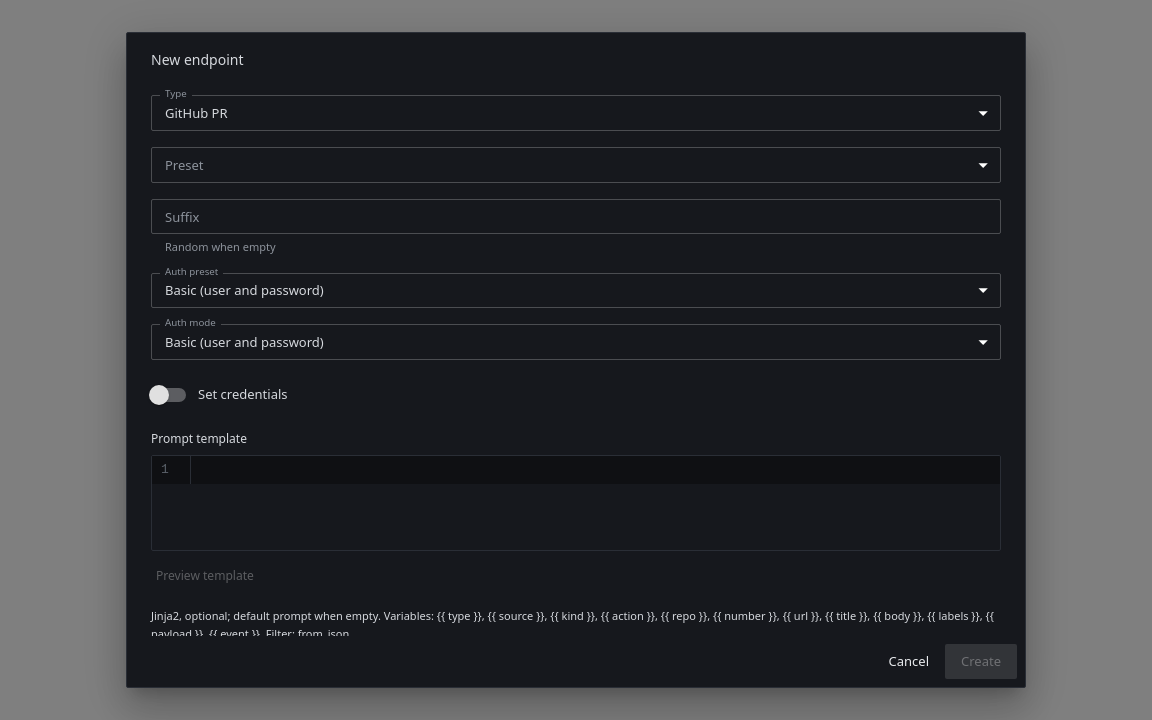
error › error 409 suffix_taken is shown in the dialog
The width and height of the screenshot is (1152, 720).
Click the dropdown named "Preset" at x=576, y=165, box [151,147,1001,183]
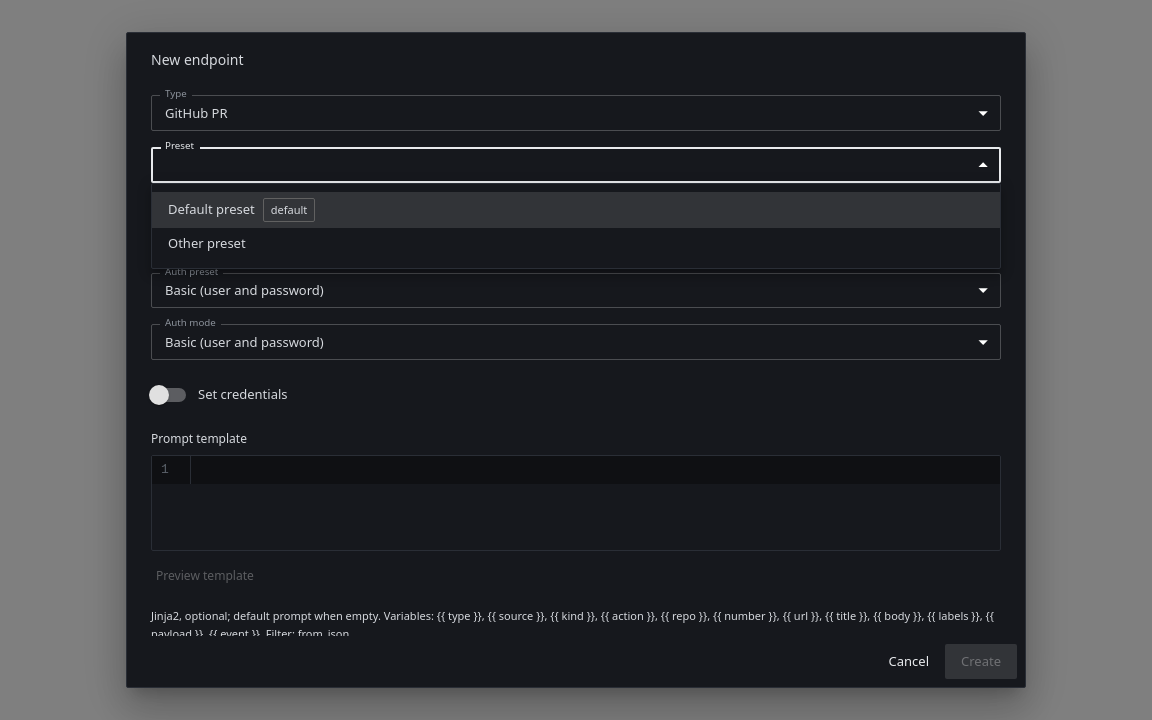
Click the option "Default preset default" at x=211, y=209, box [152,192,1000,228]
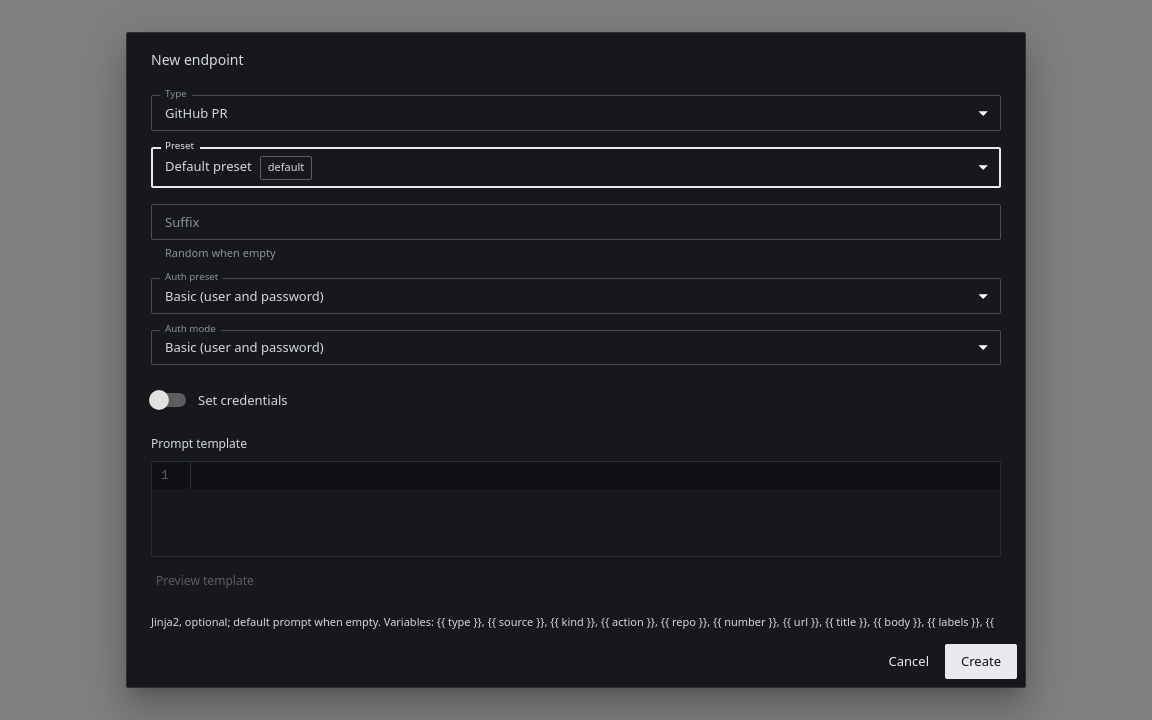
Type "dup" into the field labelled "Suffix" at x=576, y=222, box [151,204,1001,240]
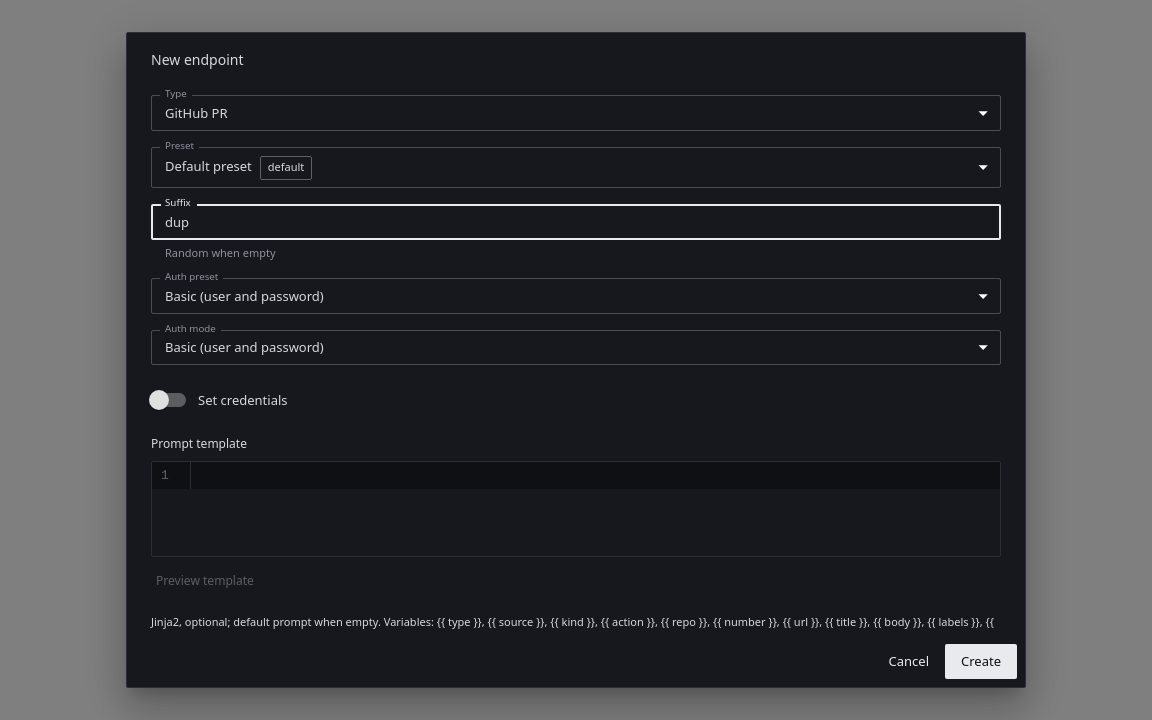
Click the button "Create" at x=981, y=662, box [945,644,1017,679]
(page scrolled)
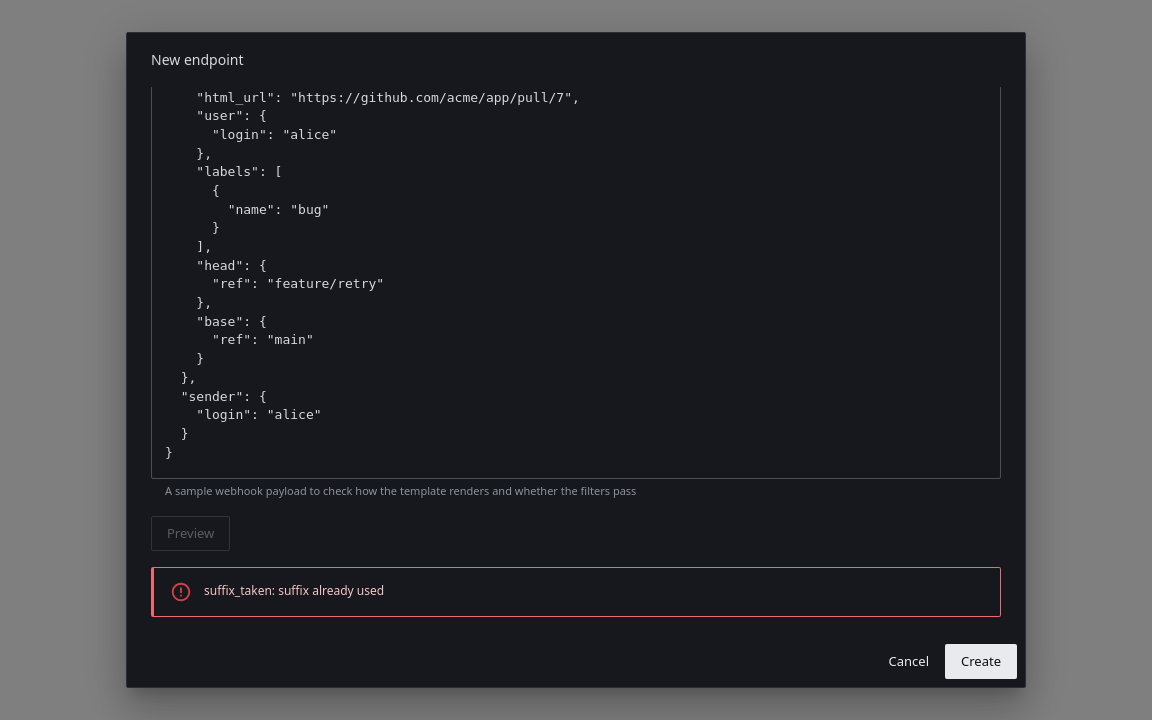
Expected: the text "suffix_taken: suffix already used" is shown, [204,582,384,599]
